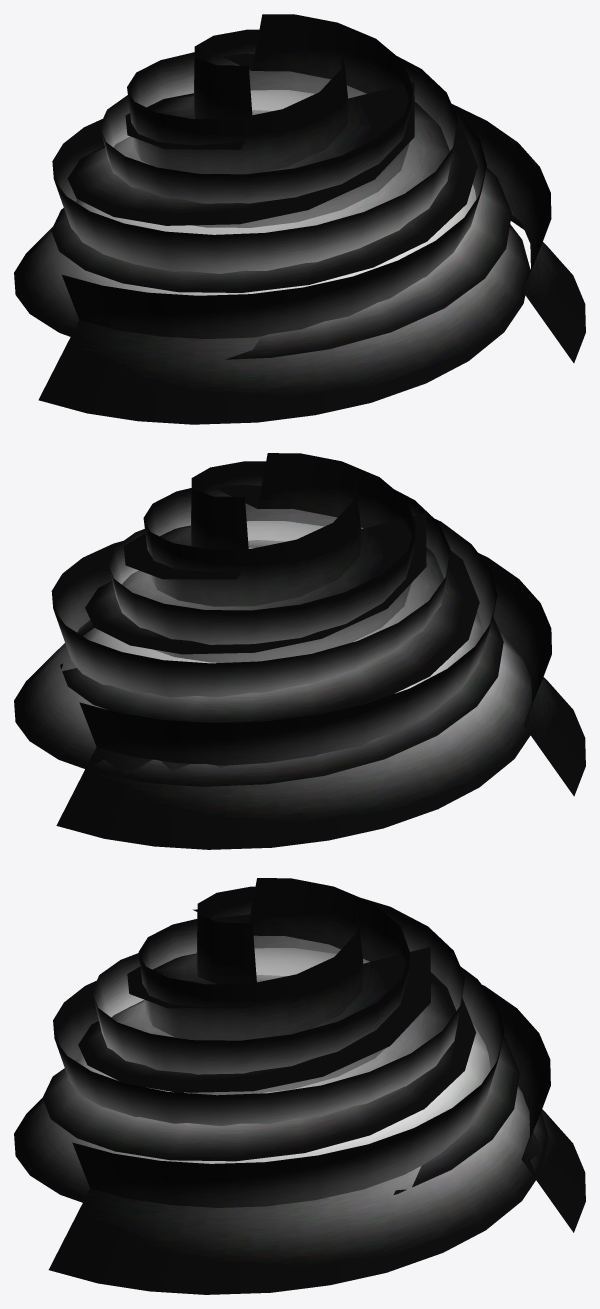
File: vfx_kurp_0533.dae
3 renders of one model, top to bottom at view 1: azimuth 30°, elevation 25°; view 2: azimuth 150°, elevation 25°; view 3: azimuth 270°, elevation 25°, orthographic. The views are drawn at different scales.
Parts seen in each view (by area): view 1: vfx_kurp_0533; view 2: vfx_kurp_0533; view 3: vfx_kurp_0533.
Part boxes in pixels (x1,y1,x2,y2): vfx_kurp_0533: (14, 14, 585, 424); vfx_kurp_0533: (14, 453, 585, 849); vfx_kurp_0533: (14, 878, 585, 1294).
Size of the model in its own units: 9.85 by 9.21 by 5.
Materials: 1 (1 with a texture image).
